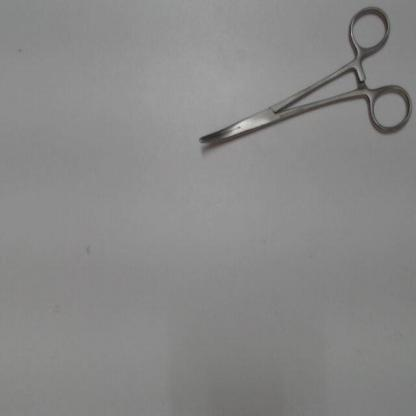Crile Artery Forceps: (192, 1, 414, 152)
